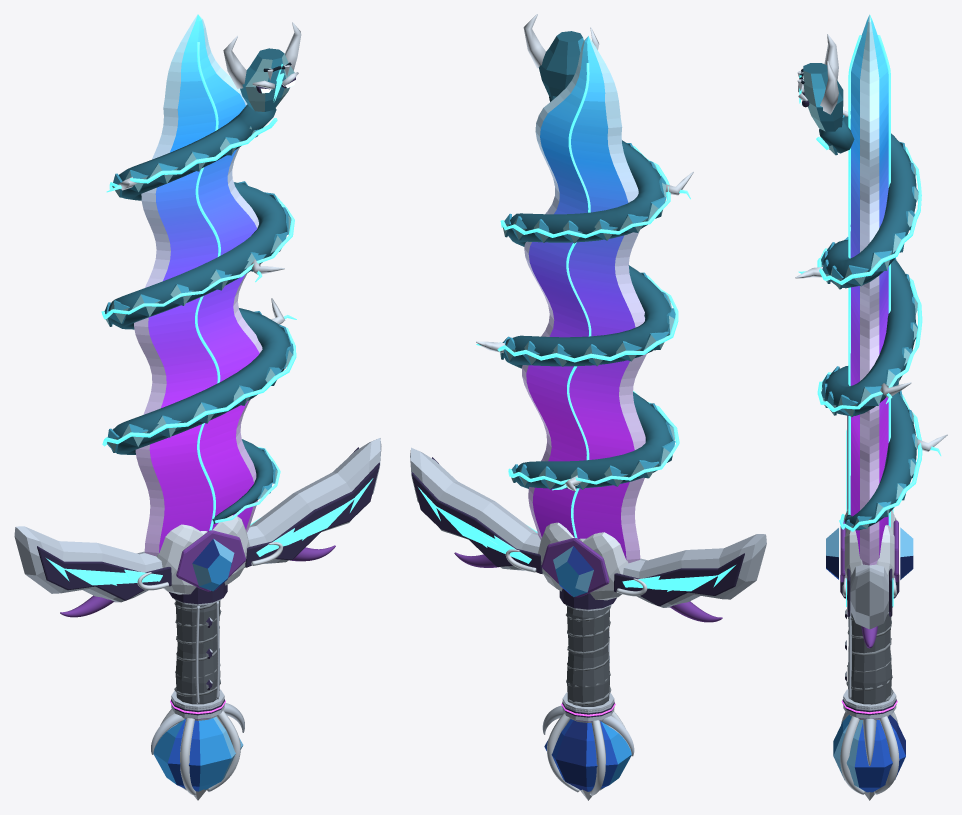
3 views of the same model, side by side, from view 1: azimuth 30°, elevation 25°; view 2: azimuth 150°, elevation 25°; view 3: azimuth 270°, elevation 25° (orthographic). The views are drawn at different scales.
Visible parts, largest first — view 1: Blade | broad wavy forged flamberge, Serpent | continuous three-turn titanium body, Serpent | overlapping diamond armor scales, Guard | left colossal lightning wing, Guard | right colossal lightning wing, Pommel | monumental cut sapphire, Grip | shaped storm-grey leather core, Serpent | unbroken zigzag lightning spine, Guard | left recessed amethyst panel -1, Guard | right recessed amethyst panel -1, Guard | crowned blade socket, Serpent | monumental horned head (+10 smaller); view 2: Blade | broad wavy forged flamberge, Serpent | continuous three-turn titanium body, Serpent | overlapping diamond armor scales, Guard | left colossal lightning wing, Guard | right colossal lightning wing, Grip | shaped storm-grey leather core, Pommel | monumental cut sapphire, Serpent | unbroken zigzag lightning spine, Guard | right recessed amethyst panel 1, Guard | crowned blade socket, Guard | left recessed amethyst panel 1, Serpent | monumental horned head (+9 smaller); view 3: Blade | broad wavy forged flamberge, Serpent | continuous three-turn titanium body, Serpent | overlapping diamond armor scales, Pommel | monumental cut sapphire, Grip | shaped storm-grey leather core, Serpent | unbroken zigzag lightning spine, Guard | left colossal lightning wing, Serpent | monumental horned head, Guard | crowned blade socket, Blade | electric ridge channel front, Blade | electric ridge channel rear, Pommel | open sapphire claw 4 (+10 smaller).
Boxes of the visible parts, x1,y1,x2,y2 form: Blade | broad wavy forged flamberge: (134, 14, 262, 556); Serpent | continuous three-turn titanium body: (108, 104, 290, 523); Serpent | overlapping diamond armor scales: (104, 126, 293, 499); Guard | left colossal lightning wing: (244, 438, 381, 567); Guard | right colossal lightning wing: (14, 526, 162, 602); Pommel | monumental cut sapphire: (153, 716, 243, 791); Grip | shaped storm-grey leather core: (175, 601, 220, 704); Serpent | unbroken zigzag lightning spine: (101, 118, 296, 523); Guard | left recessed amethyst panel -1: (245, 462, 379, 567); Guard | right recessed amethyst panel -1: (37, 546, 171, 600); Guard | crowned blade socket: (156, 515, 249, 594); Serpent | monumental horned head: (240, 48, 294, 111); Blade | broad wavy forged flamberge: (522, 36, 646, 562); Serpent | continuous three-turn titanium body: (503, 96, 672, 488); Serpent | overlapping diamond armor scales: (500, 143, 675, 489); Guard | left colossal lightning wing: (410, 447, 542, 574); Guard | right colossal lightning wing: (623, 534, 766, 607); Grip | shaped storm-grey leather core: (567, 606, 609, 706); Pommel | monumental cut sapphire: (544, 719, 631, 791); Serpent | unbroken zigzag lightning spine: (497, 146, 679, 484); Guard | right recessed amethyst panel 1: (614, 553, 744, 606); Guard | crowned blade socket: (538, 522, 628, 600); Guard | left recessed amethyst panel 1: (411, 472, 542, 573); Serpent | monumental horned head: (539, 31, 583, 98); Blade | broad wavy forged flamberge: (850, 14, 888, 565); Serpent | continuous three-turn titanium body: (819, 116, 916, 530); Serpent | overlapping diamond armor scales: (821, 115, 918, 530); Pommel | monumental cut sapphire: (833, 714, 905, 792); Grip | shaped storm-grey leather core: (847, 611, 891, 704); Serpent | unbroken zigzag lightning spine: (816, 137, 922, 531); Guard | left colossal lightning wing: (850, 564, 888, 629); Serpent | monumental horned head: (803, 63, 843, 131); Guard | crowned blade socket: (844, 509, 894, 584); Blade | electric ridge channel front: (848, 35, 861, 514); Blade | electric ridge channel rear: (878, 35, 890, 527); Pommel | open sapphire claw 4: (840, 716, 864, 794).
Size of the model in its own units: 0.9762 by 2 by 0.3523.
Materials: 19 (2 with a texture image).
